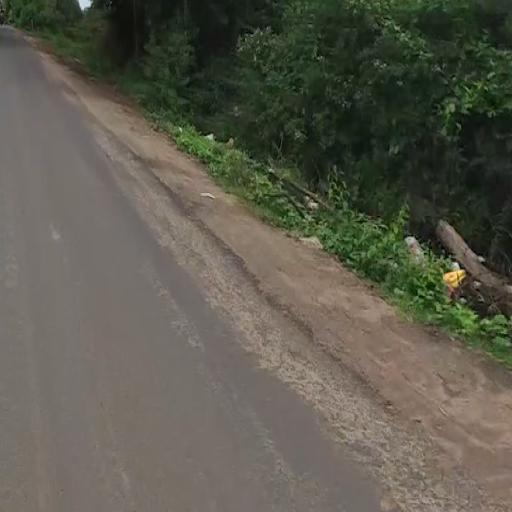edge_damage: (49, 71, 448, 490)
